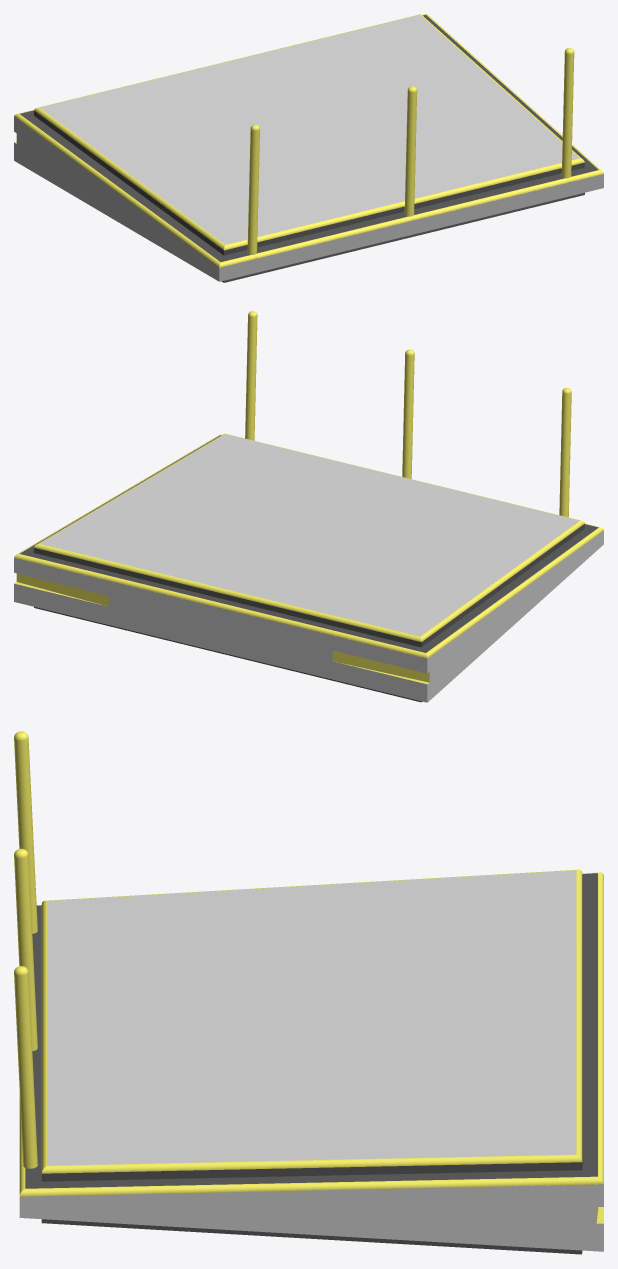
The model's file is routeur.glb.
The picture shows the model from 3 angles, top to bottom: view 1: azimuth 30°, elevation 25°; view 2: azimuth 150°, elevation 25°; view 3: azimuth 270°, elevation 25°; orthographic projection. The views are drawn at different scales.
Parts seen in each view (by area): view 1: routeur; view 2: routeur; view 3: routeur.
Boxes of the visible parts, left/top/right/bottom form: routeur: left=14, top=14, right=603, bottom=282; routeur: left=14, top=311, right=603, bottom=702; routeur: left=14, top=731, right=603, bottom=1254.
Size of the model in its own units: 0.1 by 0.0394 by 0.0808.
